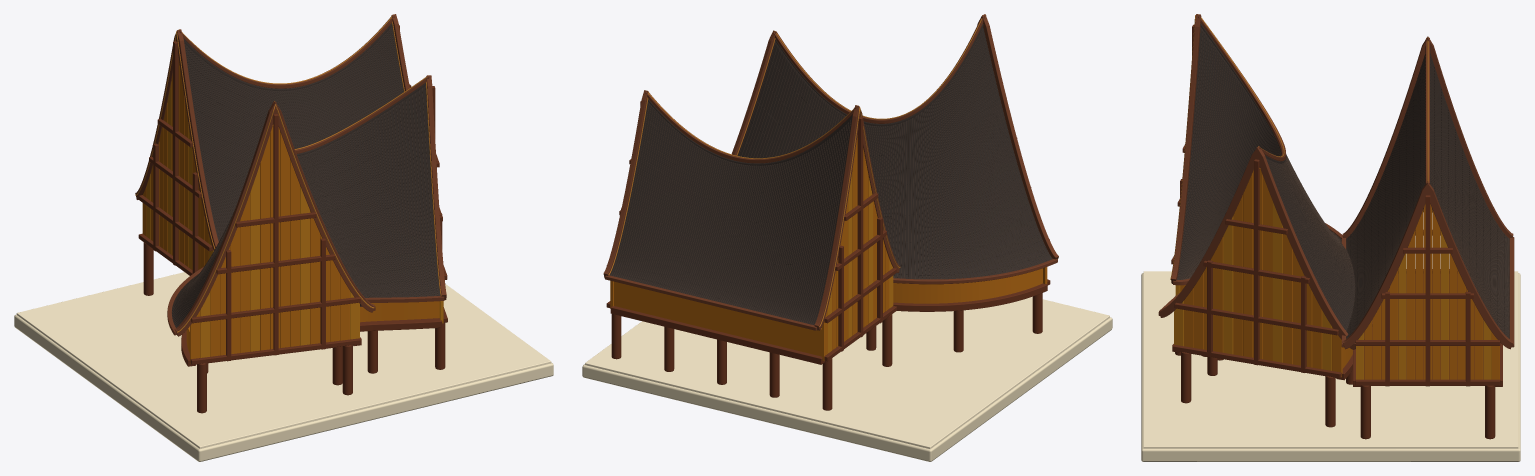
The model's file is buon-ma-thuot.glb.
The picture shows the model from 3 angles, left to right: view 1: azimuth 30°, elevation 25°; view 2: azimuth 150°, elevation 25°; view 3: azimuth 270°, elevation 25°; orthographic projection. The views are drawn at different scales.
Parts seen in each view (by area): view 1: BAO_TANG_CA_PHE_V3; view 2: BAO_TANG_CA_PHE_V3; view 3: BAO_TANG_CA_PHE_V3.
Boxes of the visible parts, box(x1,y1,x2,y2) form: BAO_TANG_CA_PHE_V3: box(14, 14, 553, 461); BAO_TANG_CA_PHE_V3: box(582, 14, 1112, 461); BAO_TANG_CA_PHE_V3: box(1141, 14, 1520, 461).
Bounding box in the file's own units: 1.24 × 1.05 × 1.12.
